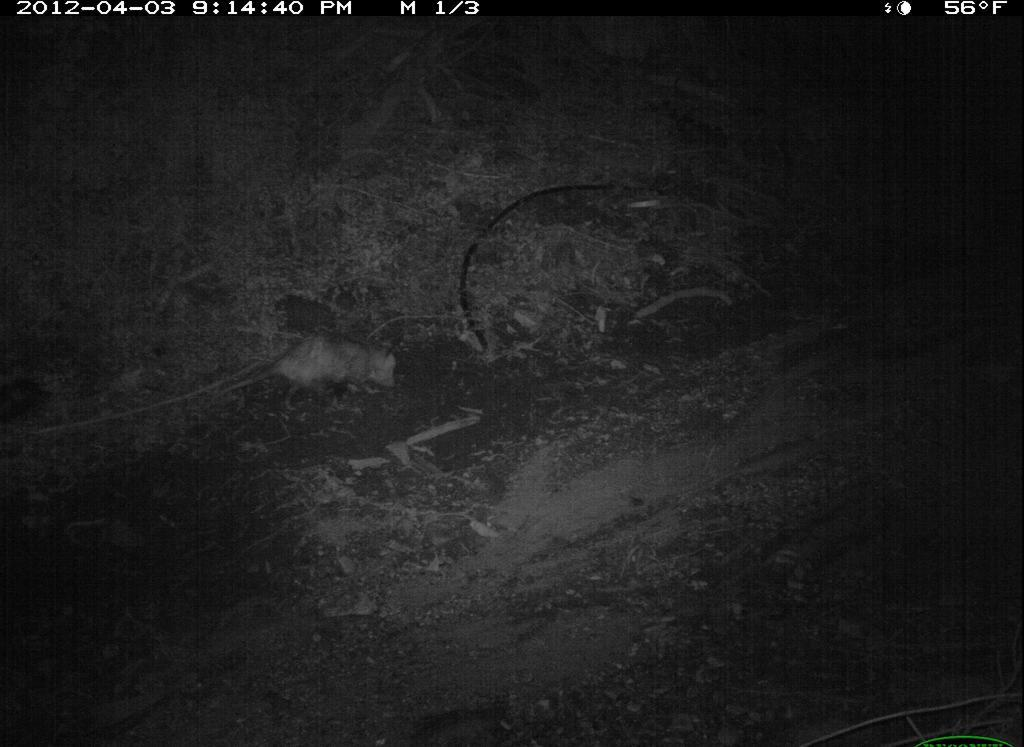opossum: (199, 324, 465, 431)
